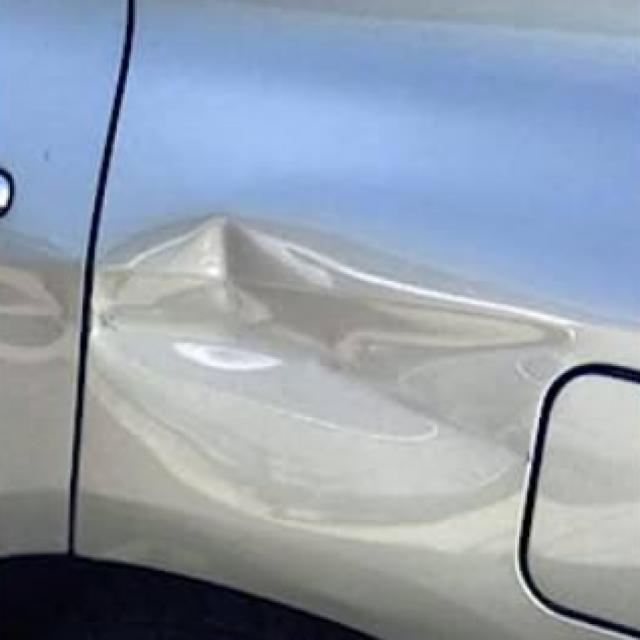dents: (86, 191, 584, 557)
